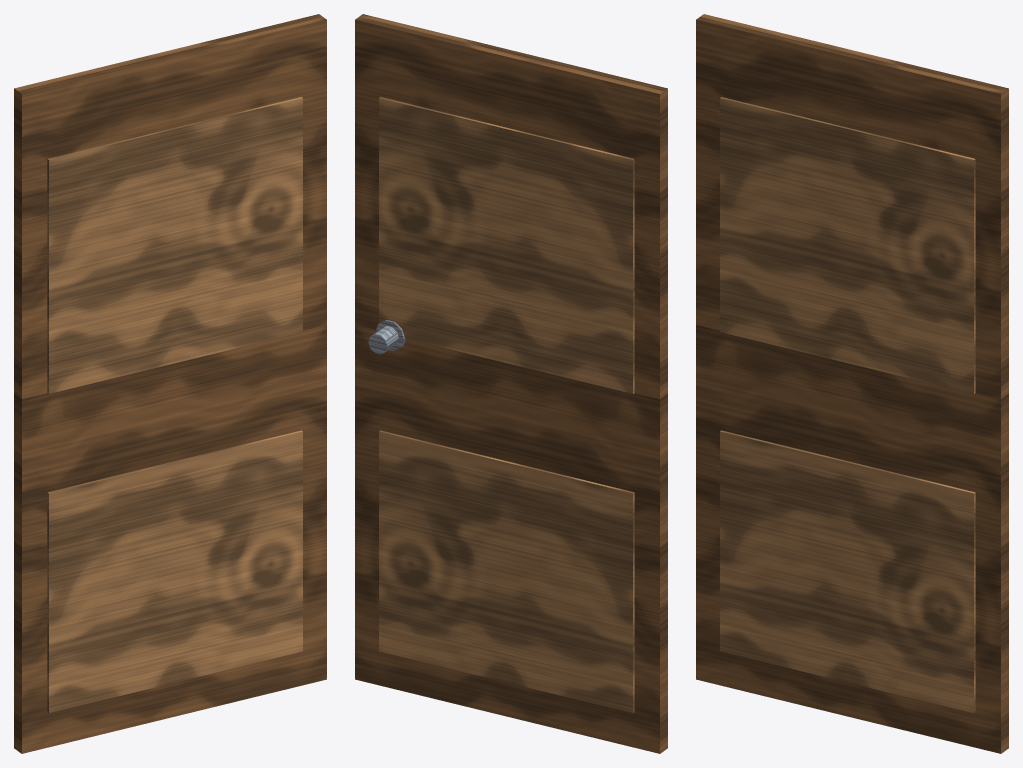
File: interior_door.fbx
3 views of the same model, side by side, from view 1: azimuth 30°, elevation 25°; view 2: azimuth 150°, elevation 25°; view 3: azimuth 330°, elevation 25° (orthographic).
Parts seen in each view (by area): view 1: interior_door; view 2: interior_door; view 3: interior_door.
Boxes of the visible parts, <box> form: interior_door: <box>14,14,326,753</box>; interior_door: <box>355,14,667,753</box>; interior_door: <box>696,14,1008,753</box>.
Bounding box in the file's own units: 90 × 186 × 12.2.
